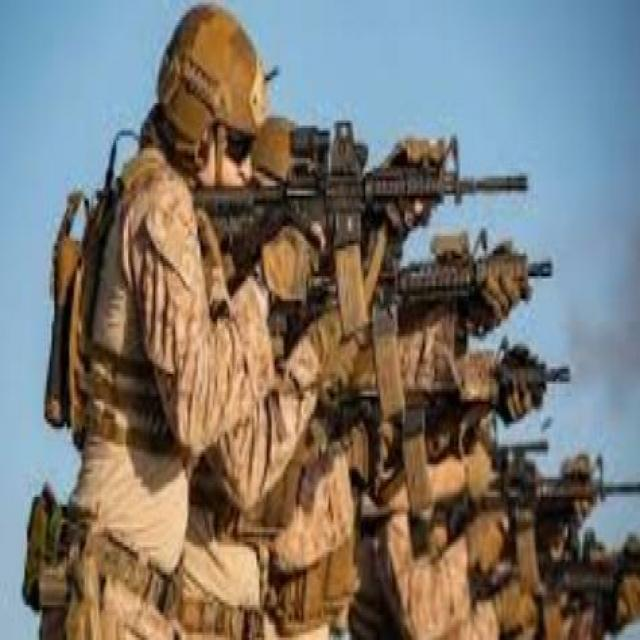m16: (162, 110, 558, 348)
